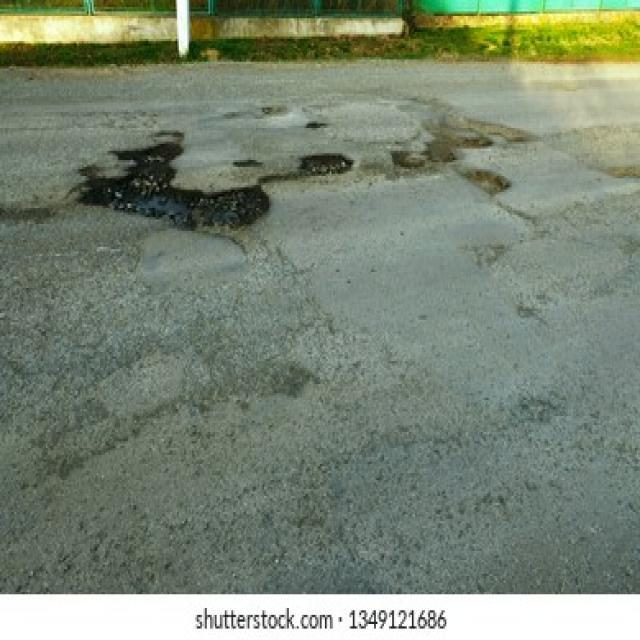Pothole: (74, 139, 272, 240), (460, 112, 530, 144), (296, 150, 354, 178), (464, 166, 512, 196), (425, 132, 455, 164), (387, 146, 422, 172), (304, 118, 328, 130), (230, 158, 262, 167)
